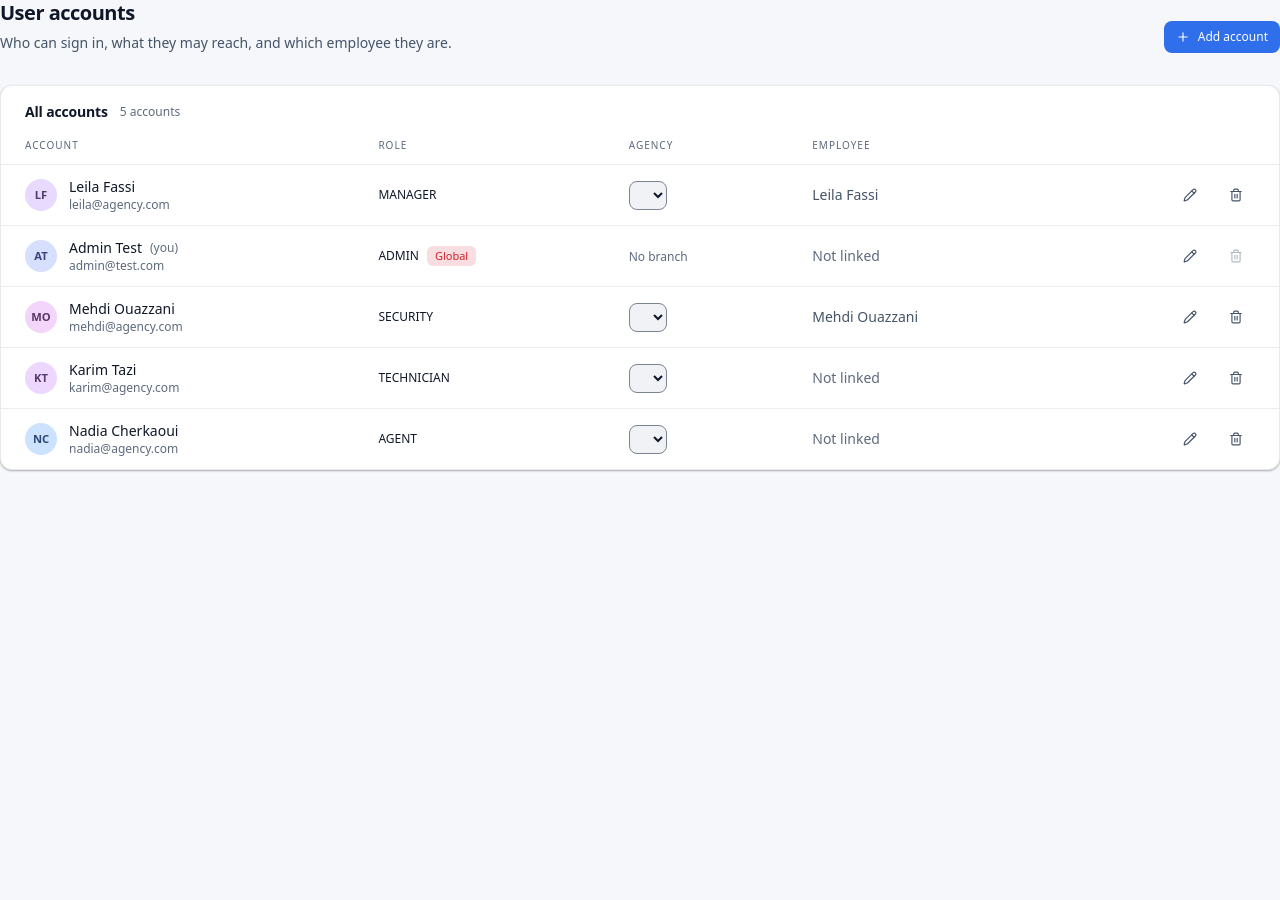
Users › does not offer ADMIN when creating an account
Check: the table is shown, box x1=1 y1=126 x2=1279 y2=469
Click the button "Add account": [1222, 37] box x1=1164 y1=21 x2=1279 y2=53
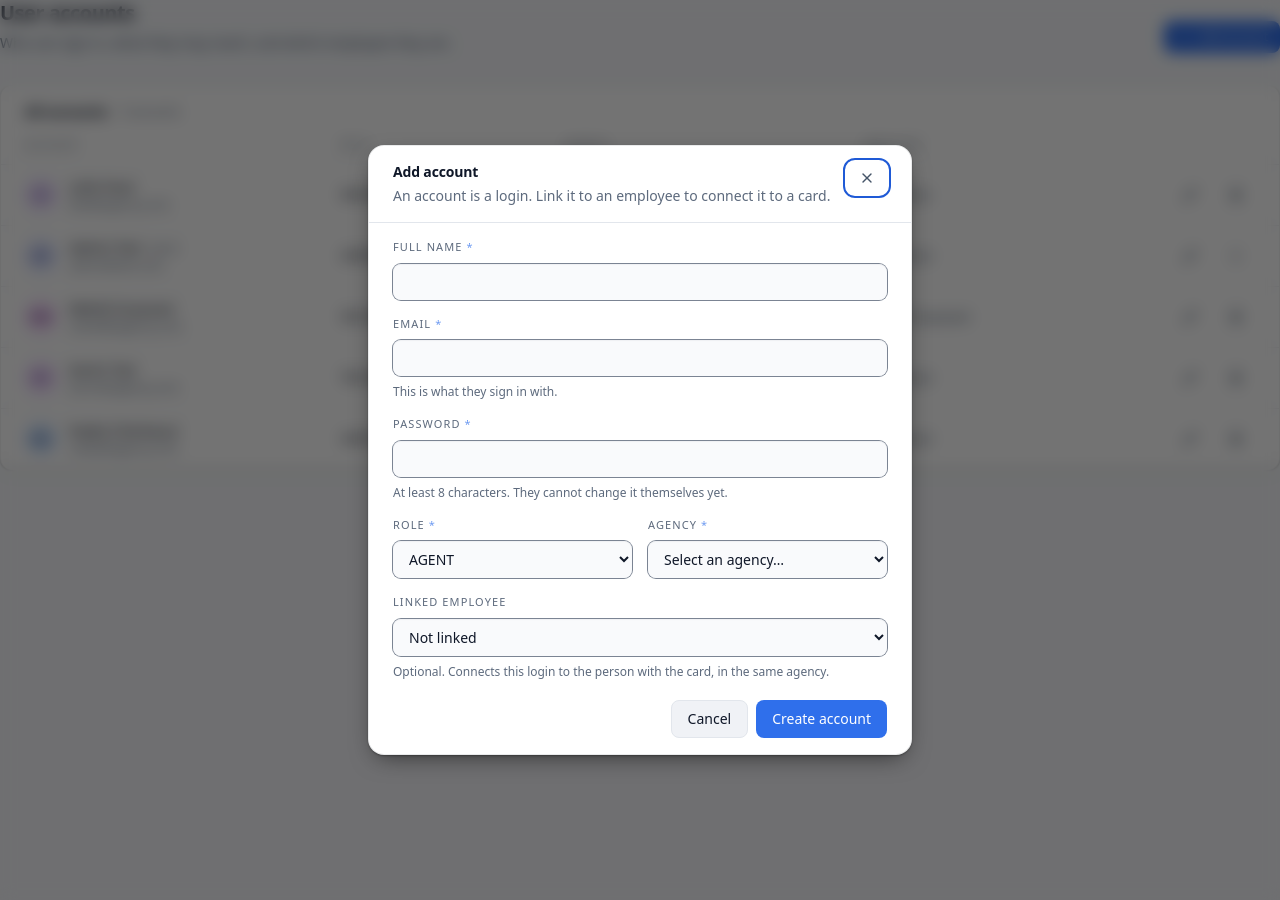
Check: the dropdown labelled "Agency*" is shown, box x1=648 y1=541 x2=887 y2=578
